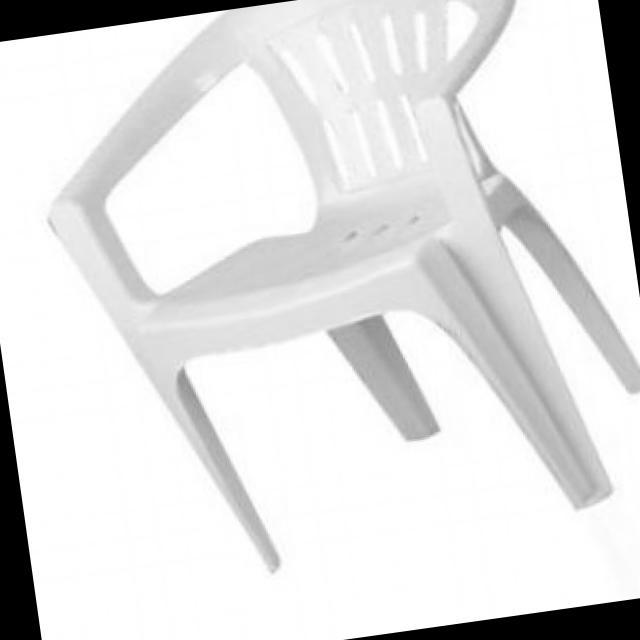chair: (18, 0, 640, 604)
